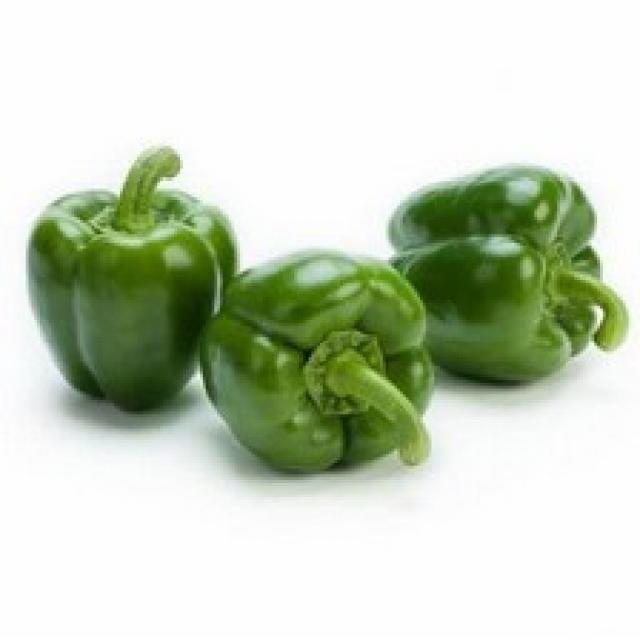Pepper: (24, 148, 240, 417), (194, 249, 436, 478), (389, 167, 628, 387)
